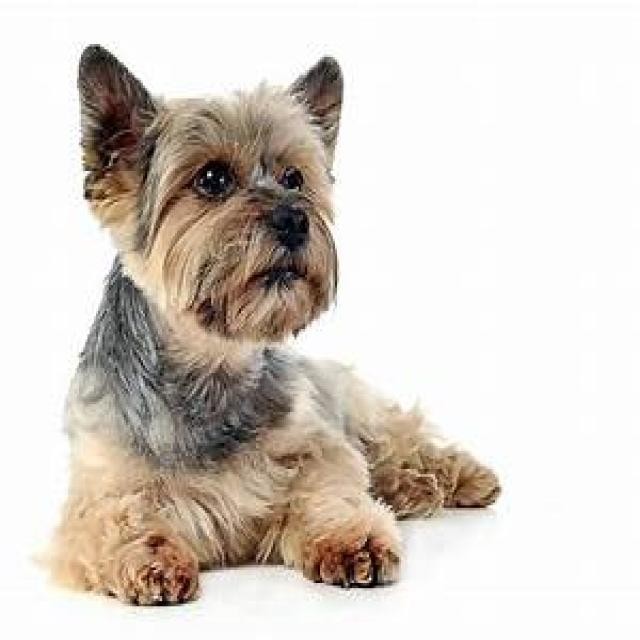animal: (41, 41, 502, 606)
